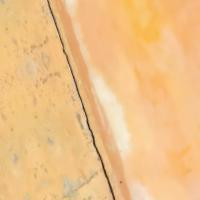crack: (37, 0, 122, 199)
